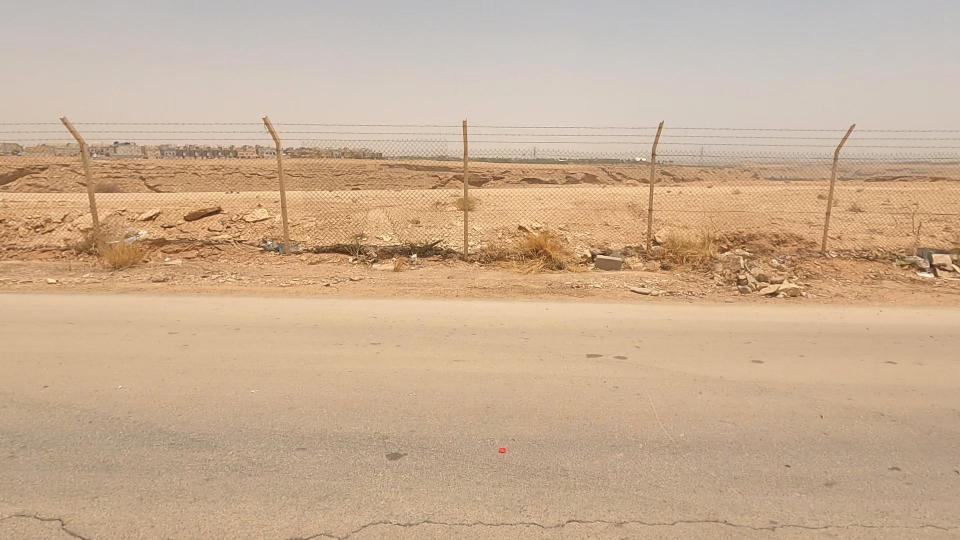GARBAGE: (239, 214, 334, 277), (881, 240, 960, 303)
